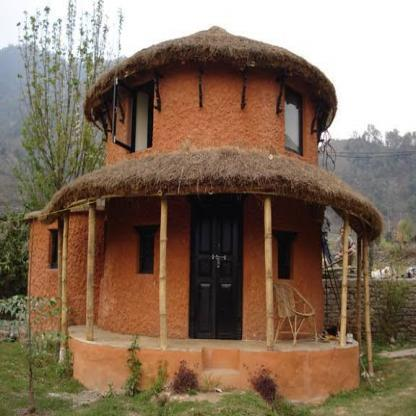Blind: (112, 76, 133, 151)
Building Outline: (24, 24, 384, 403)
Dont: (273, 281, 318, 347)
Door: (189, 194, 244, 340)
Facade: (99, 79, 322, 402)
Floor Slab: (106, 174, 319, 182)
Ground Floor: (99, 174, 322, 402), (28, 211, 99, 344)
Pillar: (363, 238, 375, 376), (59, 208, 69, 361), (339, 215, 350, 347), (86, 200, 96, 341), (159, 195, 168, 348), (358, 233, 362, 355)
Roof: (40, 148, 384, 238), (82, 24, 339, 124)
Top Floor: (106, 73, 319, 174)
Window: (130, 80, 154, 154), (285, 84, 303, 157), (139, 225, 155, 273), (277, 231, 292, 279), (51, 229, 63, 269)
